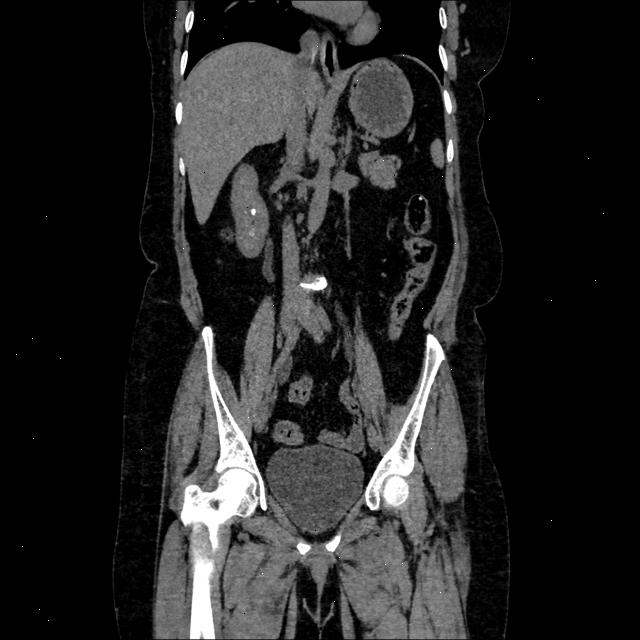kidneystone: (250, 208, 256, 216)
